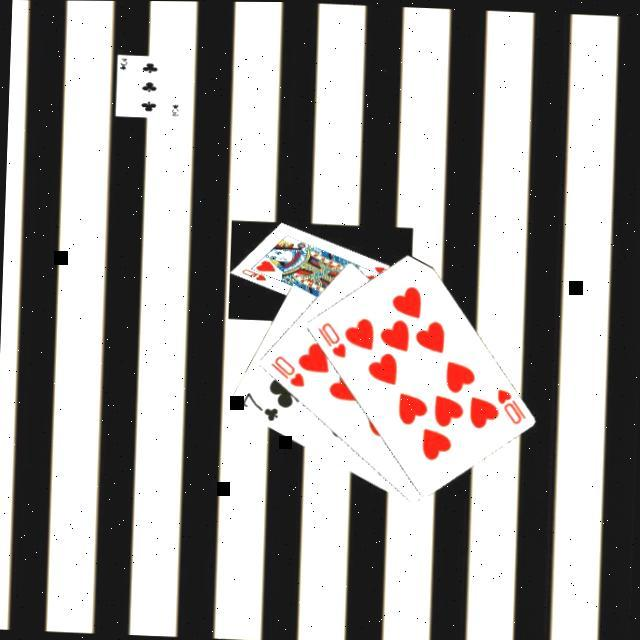10H: (310, 316, 348, 358), (490, 382, 528, 424), (264, 350, 306, 387)
7C: (234, 386, 280, 422)
